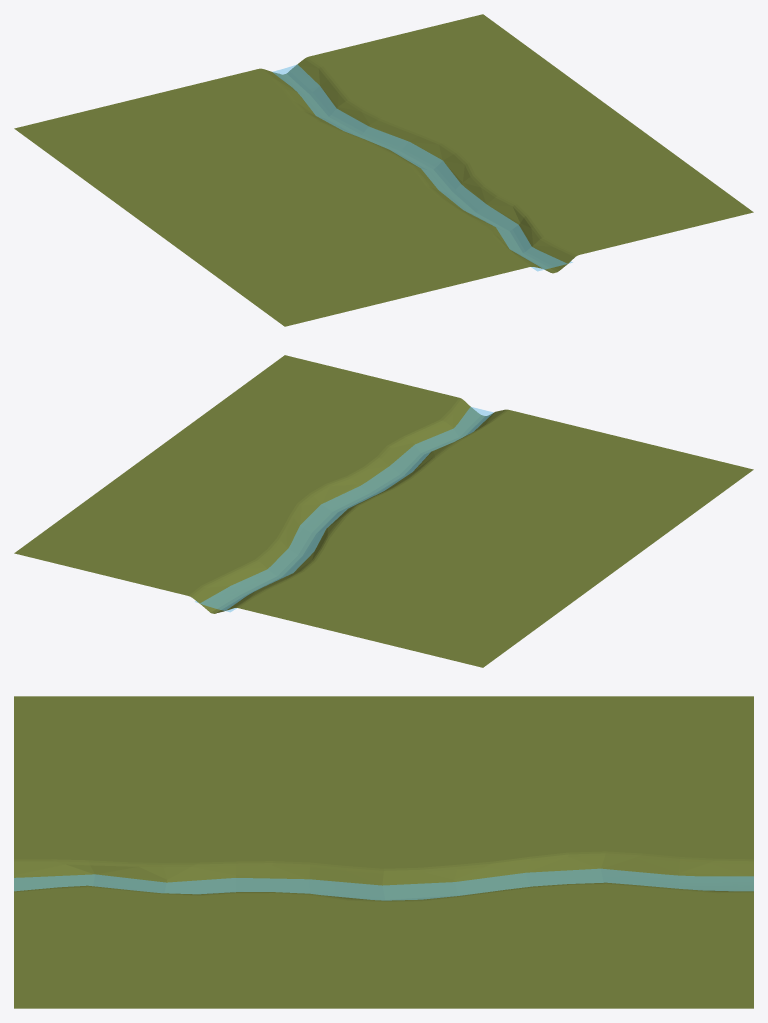
Rendered from EA03_Fix.fbx.
The picture shows the model from 3 angles, top to bottom: view 1: azimuth 30°, elevation 25°; view 2: azimuth 150°, elevation 25°; view 3: azimuth 270°, elevation 25°; orthographic projection. The views are drawn at different scales.
Visible parts, largest first — view 1: EA03_Terrain01a; view 2: EA03_Terrain01a; view 3: EA03_Terrain01a.
Boxes of the visible parts, left/top/right/bottom form: EA03_Terrain01a: left=14, top=14, right=753, bottom=326; EA03_Terrain01a: left=14, top=355, right=753, bottom=667; EA03_Terrain01a: left=14, top=696, right=753, bottom=1008.
Size of the model in its own units: 200 by 5 by 200.
